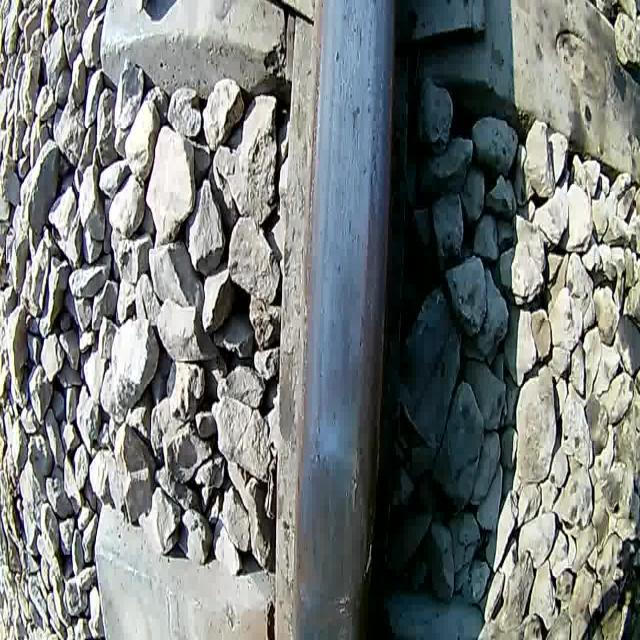Squats: (288, 433, 375, 640)
